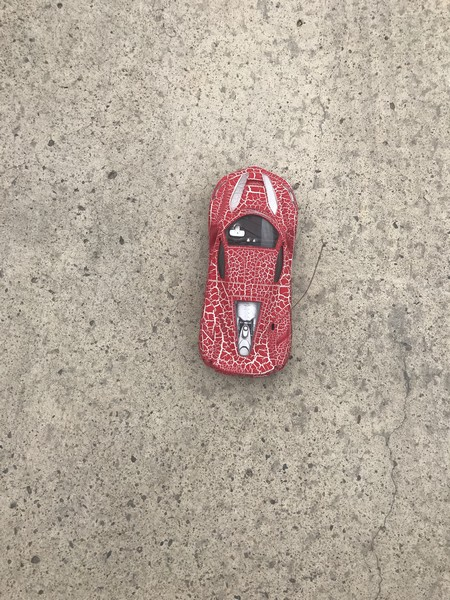RC: (197, 167, 300, 380)
